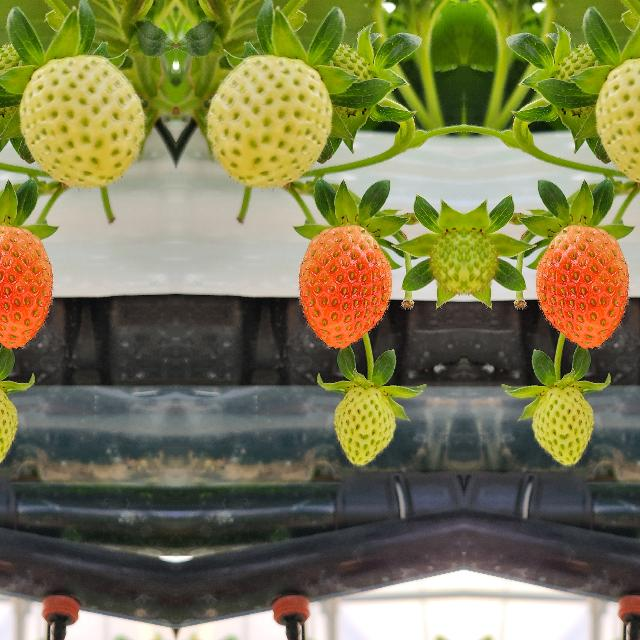Health_100: (298, 225, 390, 347), (536, 225, 628, 347), (0, 225, 52, 347)
Health_25: (204, 50, 330, 190), (20, 50, 146, 190), (596, 50, 640, 190), (330, 372, 394, 468), (532, 372, 596, 468), (423, 212, 462, 300), (463, 212, 502, 300), (0, 371, 20, 468)
